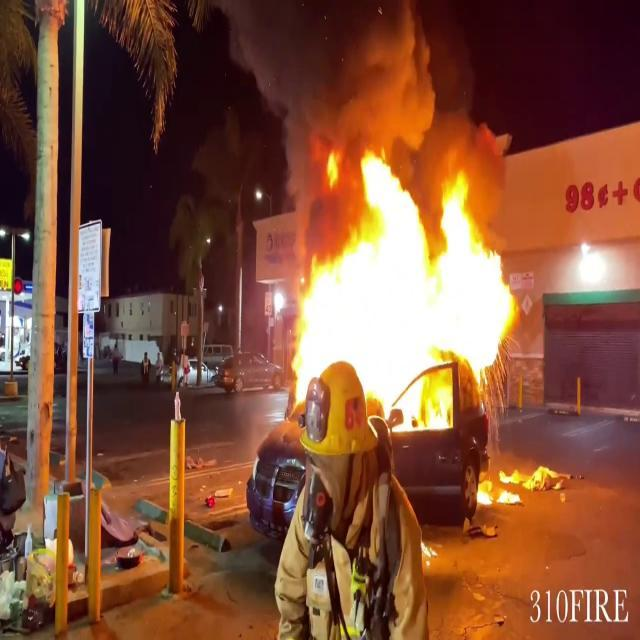Fire: (284, 136, 522, 414), (478, 454, 560, 504)
Smoke: (244, 0, 433, 207)
